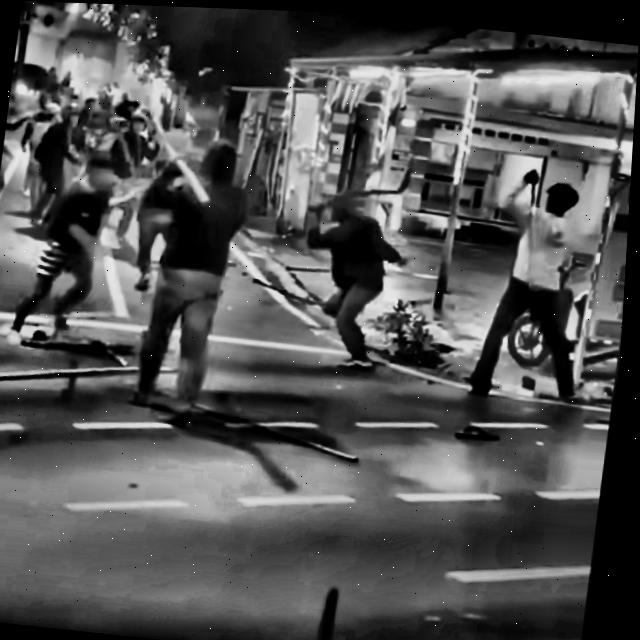robbery: (0, 0, 627, 469)
